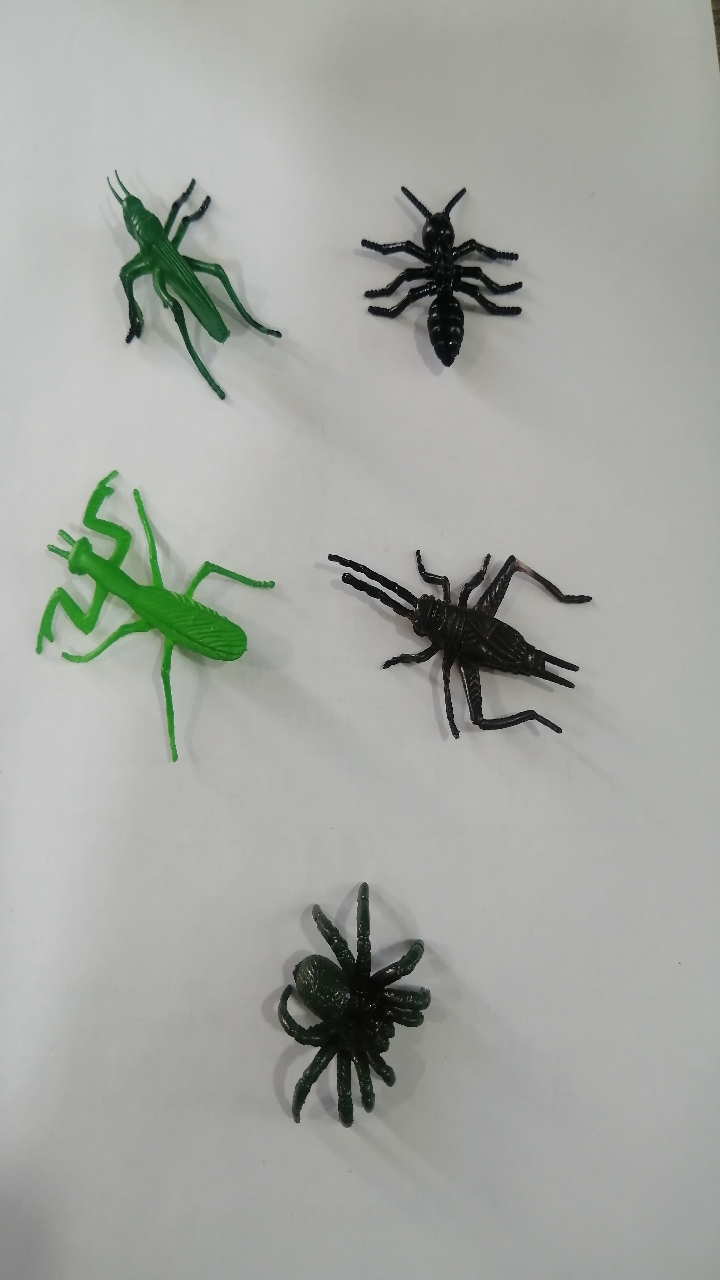intruso: (8, 432, 295, 797), (306, 483, 608, 789), (61, 125, 297, 409), (331, 143, 560, 405), (246, 865, 452, 1146)
